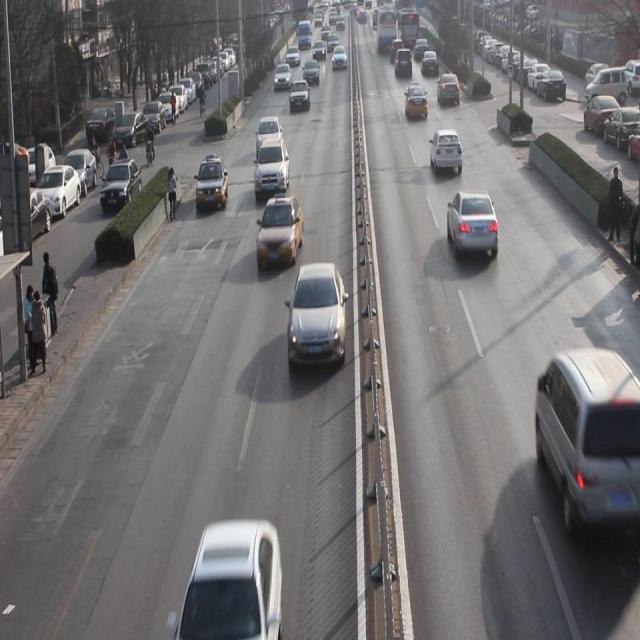car: (179, 525, 280, 640), (289, 263, 347, 375), (447, 191, 500, 264), (257, 194, 302, 268), (254, 140, 289, 198), (195, 159, 230, 213), (429, 131, 463, 176), (256, 116, 282, 157), (403, 82, 428, 121), (288, 79, 310, 114), (437, 74, 461, 106)
truck: (533, 347, 640, 534)
